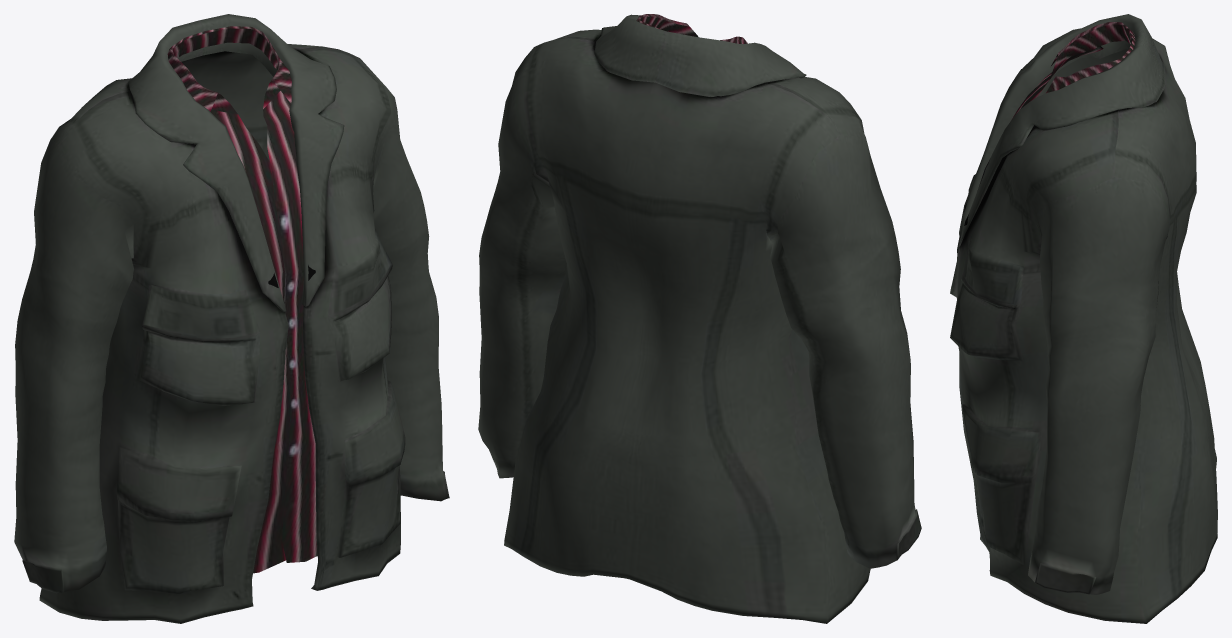
Rendered from outer_casual_jacket.gltf.
3 renders of one model, left to right at view 1: azimuth 30°, elevation 25°; view 2: azimuth 150°, elevation 25°; view 3: azimuth 270°, elevation 25°, orthographic. The views are drawn at different scales.
Parts seen in each view (by area): view 1: outer_casual_jacket; view 2: outer_casual_jacket; view 3: outer_casual_jacket.
Boxes of the visible parts, x1,y1,x2,y2 form: outer_casual_jacket: (14, 14, 449, 623); outer_casual_jacket: (478, 14, 921, 623); outer_casual_jacket: (950, 14, 1217, 623).
Bounding box in the file's own units: 0.5332 × 0.6719 × 0.3152.
1 material, 1 textured.
